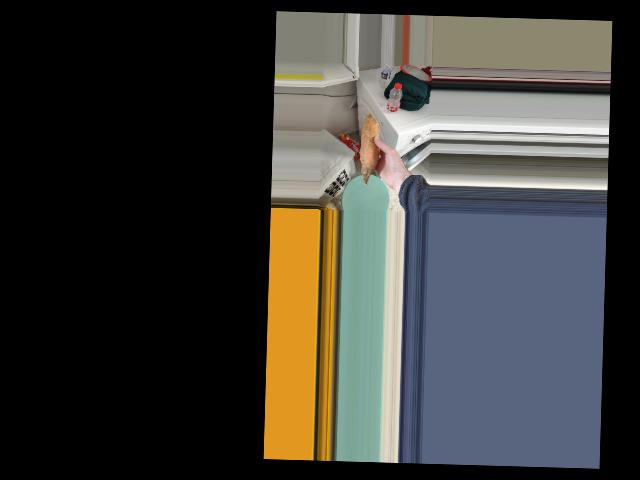sweet_potato: (359, 122, 382, 179)
